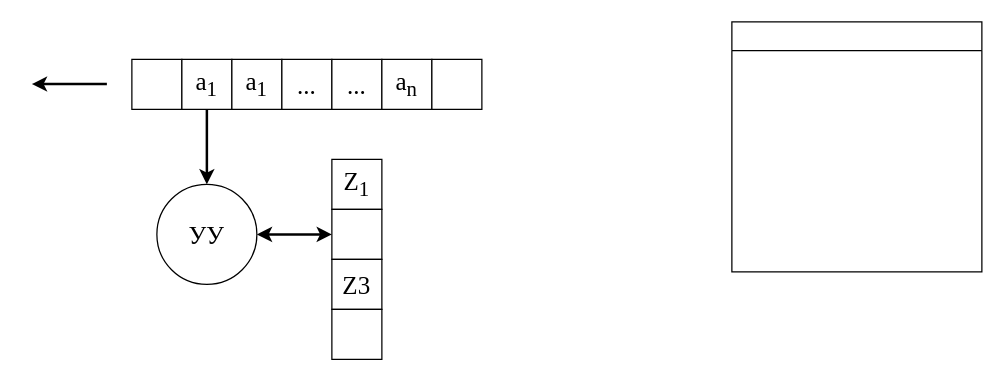
This 1004x381 diagram has some shape labels left out. Each missing label, with the centre of its shape:
"Vertical Container" belongs at [856,146].
"Z 2" belongs at [356,233].
